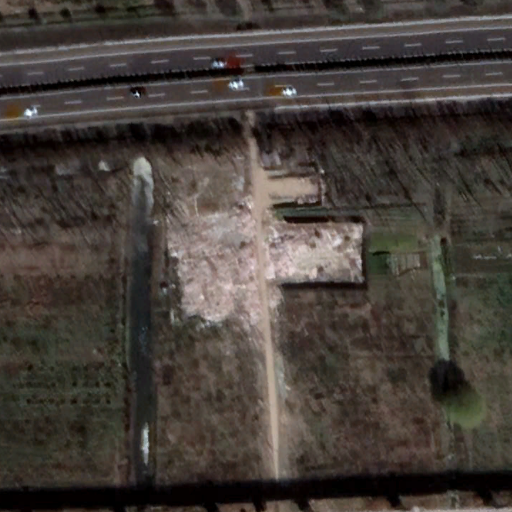msw: (165, 207, 363, 323)
